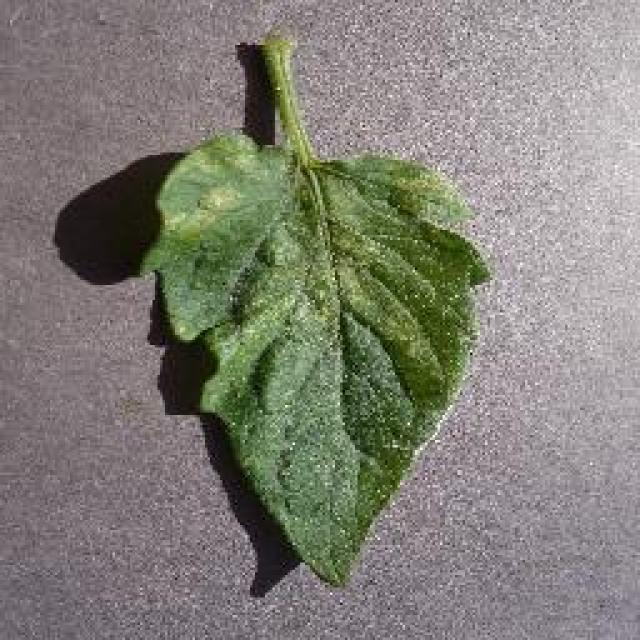Tomato___Spider_mites Two-spotted_spider_mite: (138, 38, 488, 582)
